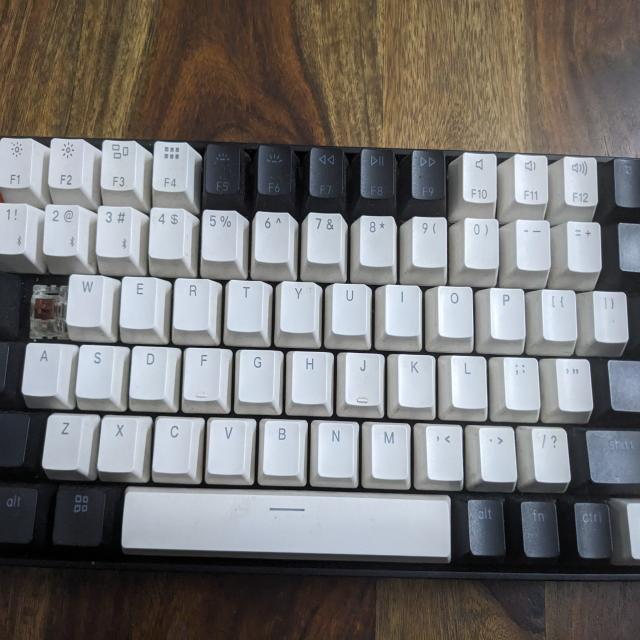C: (31, 284, 64, 339)
